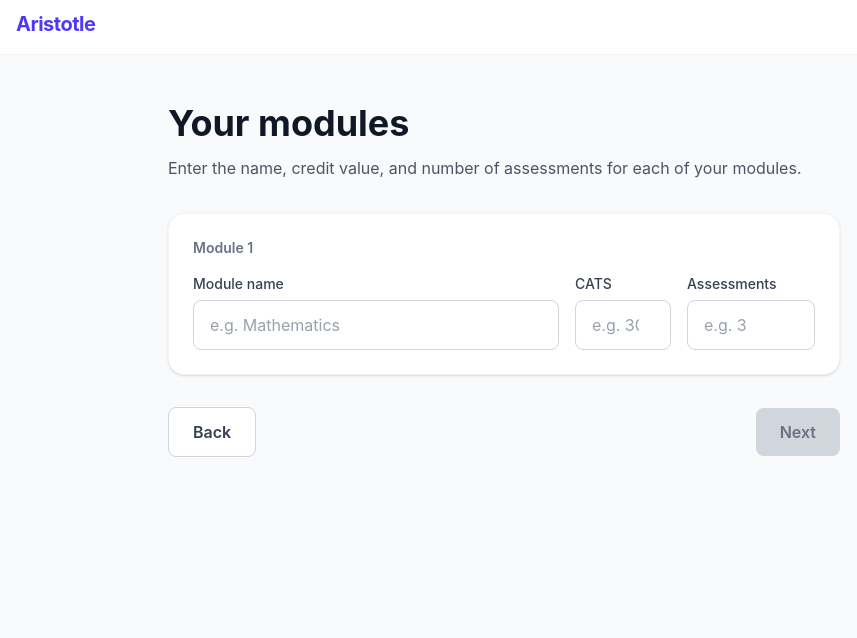
Scenario: ModuleDetailsPage › navigates to assessment details on Next click when valid
Type "Mathematics" into the field.
click(376, 325); type("Mathematics")  # box [193, 300, 559, 350]
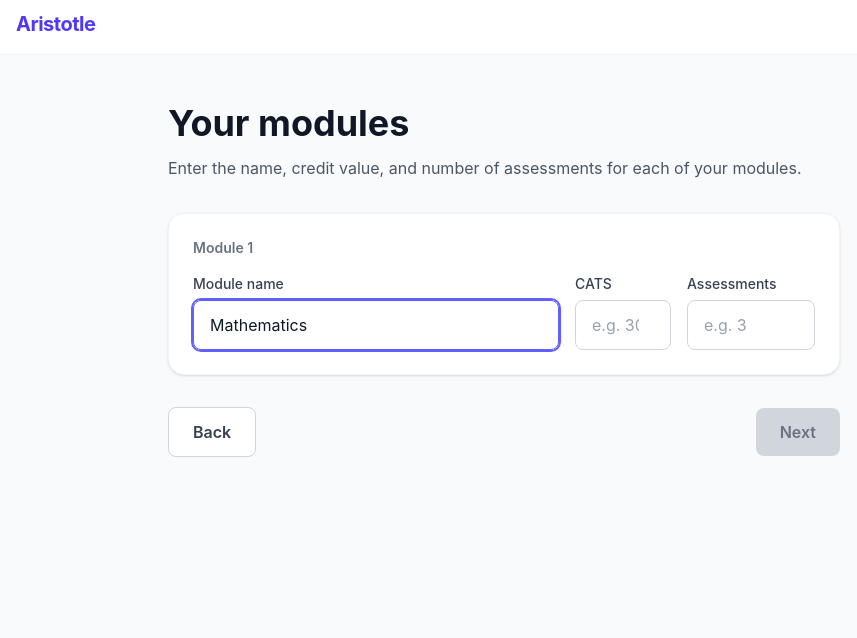
Type "30" into the number field labelled "CATS".
click(623, 325); type("30")  # box [575, 300, 671, 350]
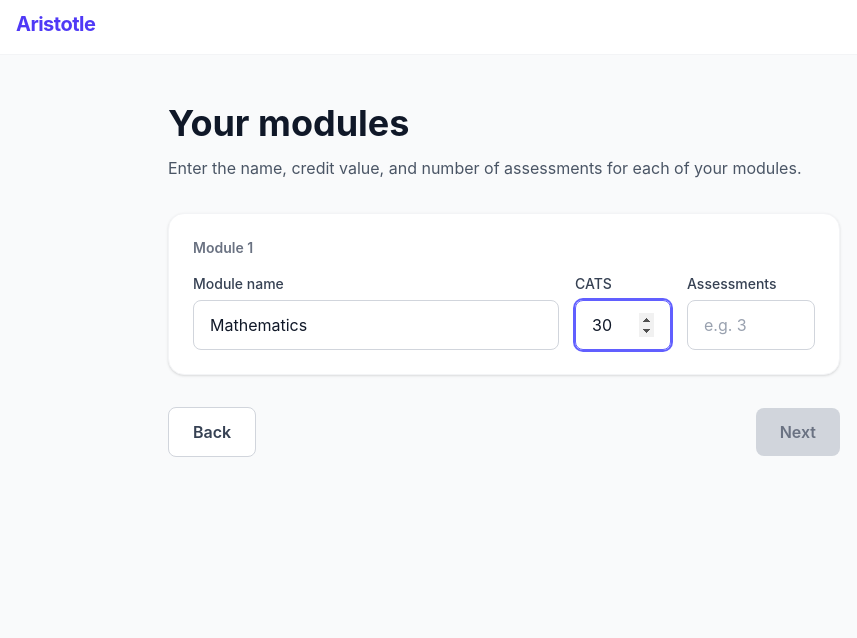
Type "2" into the number field labelled "Assessments".
click(751, 325); type("2")  # box [687, 300, 815, 350]
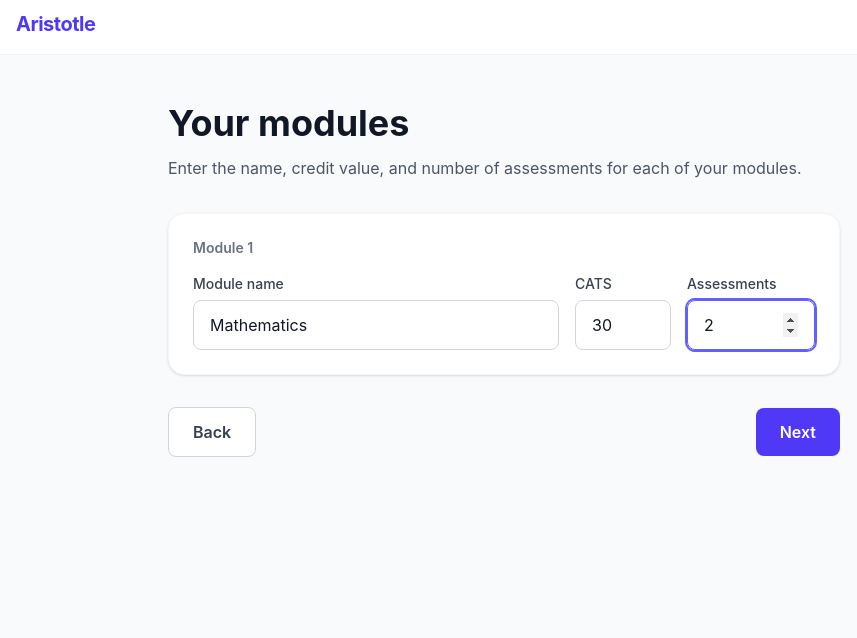
Click the button "Next".
click(798, 432)  # box [756, 408, 840, 456]
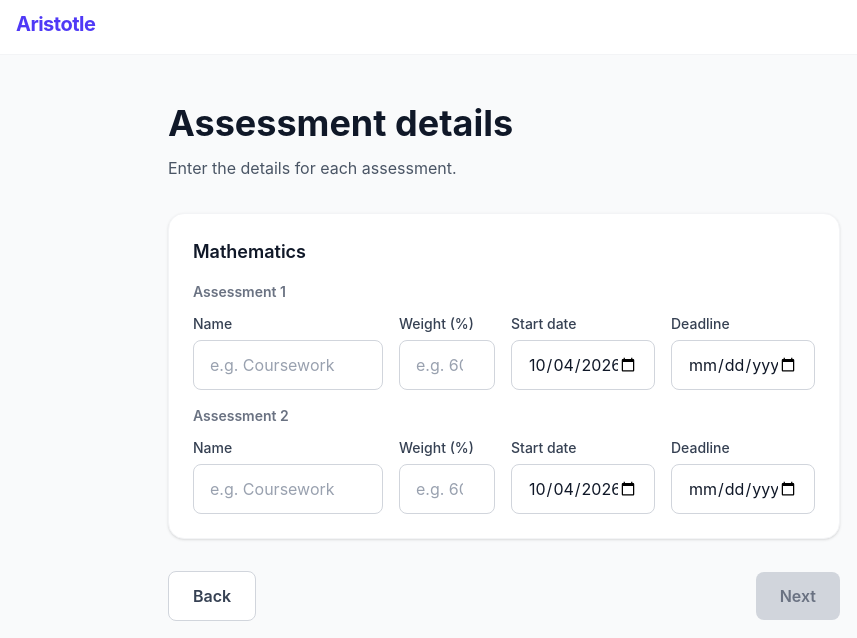
Expected: the heading "Assessment details" is shown, [168, 101, 513, 145]
